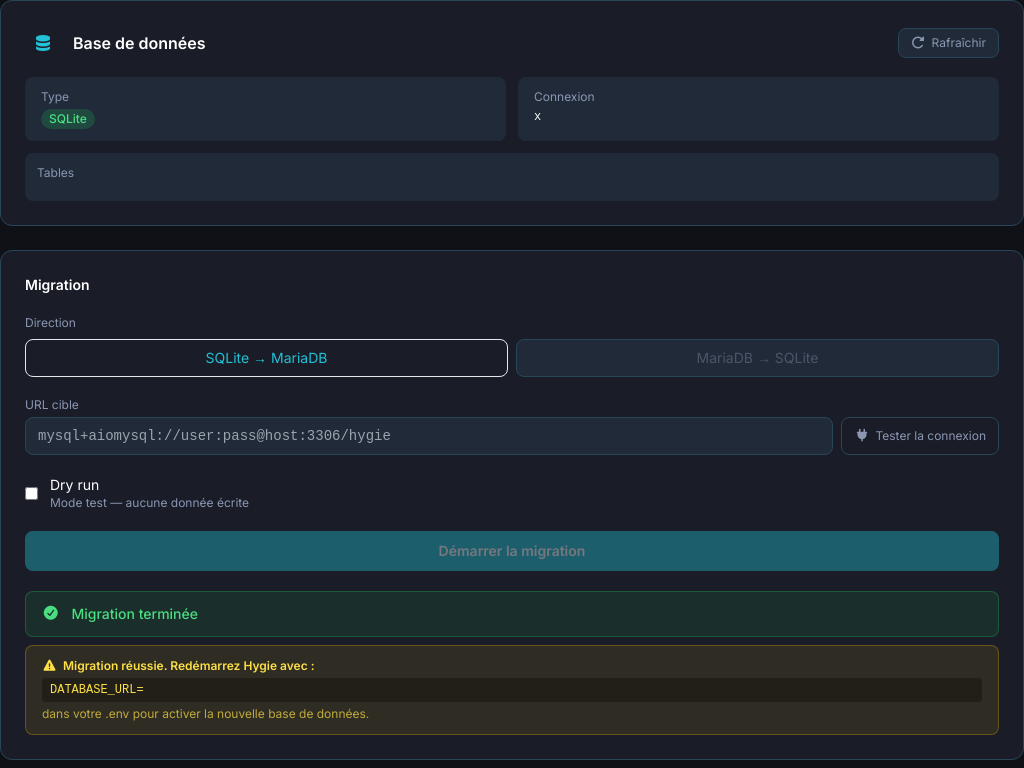
Scenario: DatabaseTab › startMigration shows the error status and stops migrating on API rejection
In the field with placeholder "mysql+aiomysql://user:pass@host:3306/hygie": (429, 436) [25,417,833,455], type "mysql://x"
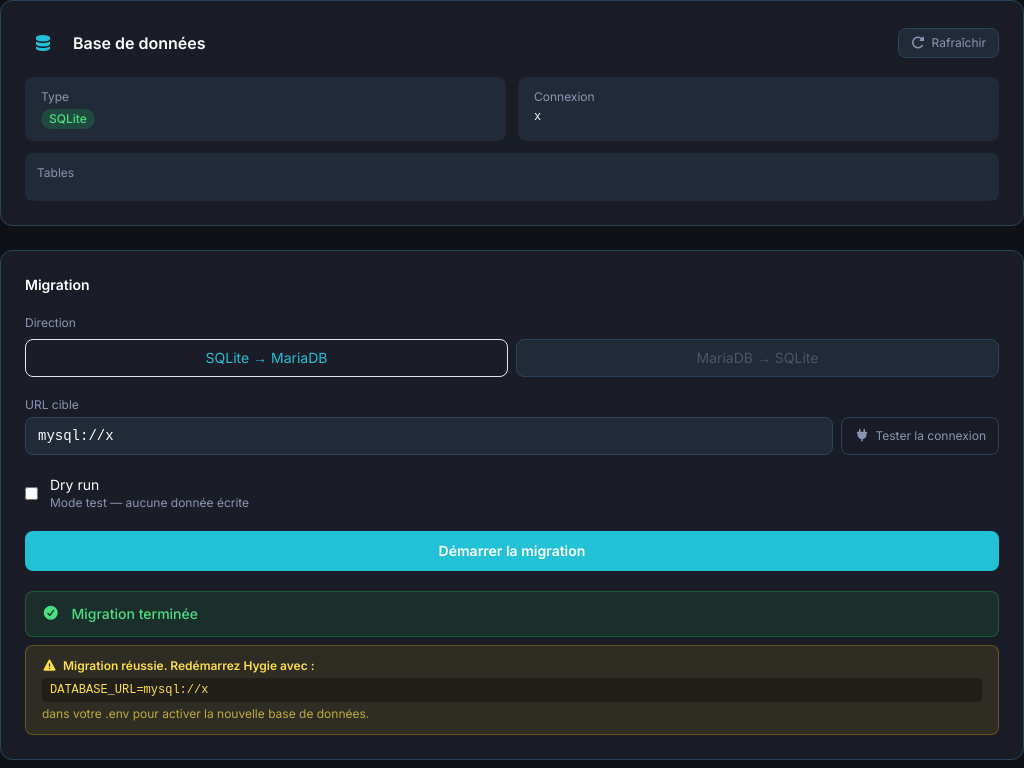
Click the button "Démarrer la migration": (512, 551) [25,531,999,571]
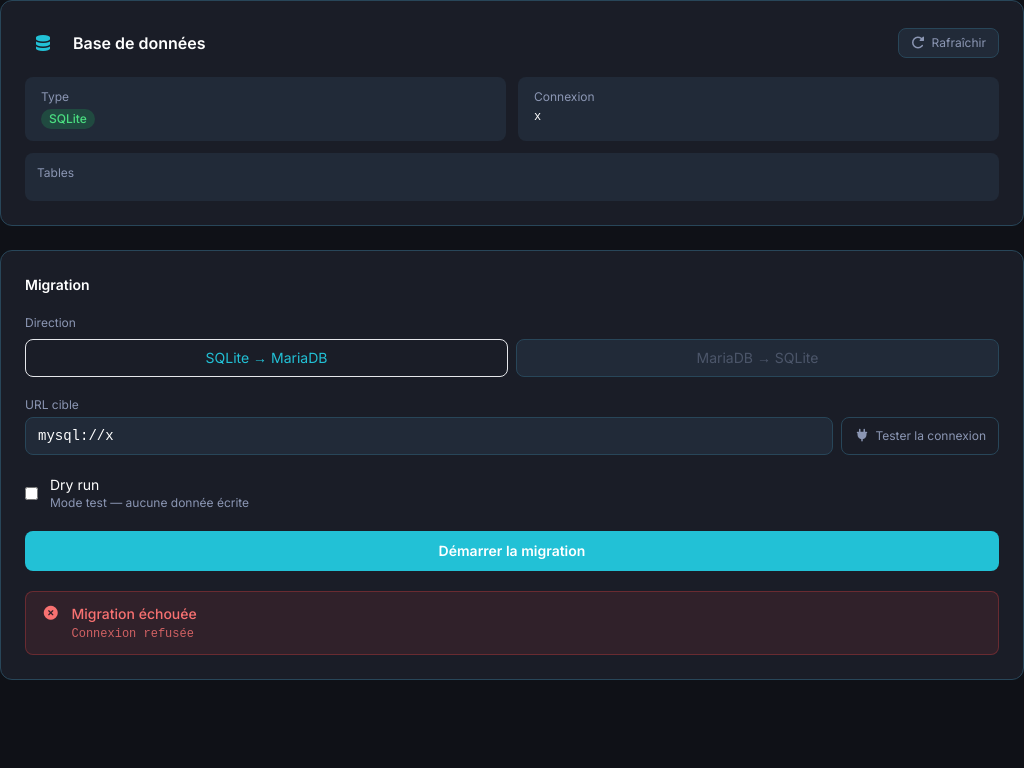
Expected: the text "Connexion refusée" is shown, [72,626,197,642]
